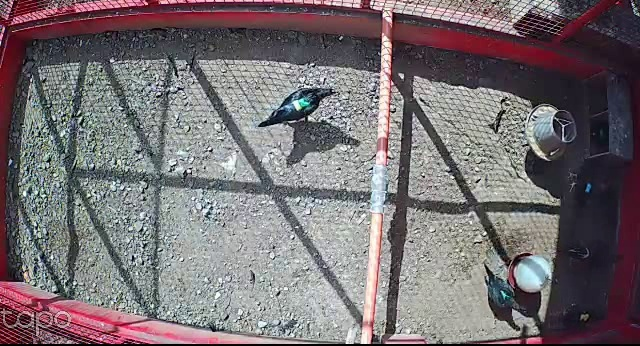Chicken: (255, 86, 339, 131), (479, 258, 536, 322), (561, 164, 617, 212), (552, 303, 610, 332)
Feeder: (526, 102, 579, 161)
Saddle_Color_Blue: (583, 183, 592, 193)
Saddle_Color_Yellow: (579, 312, 590, 321)
Saddle_Color_YellowGreen: (292, 98, 310, 112)
